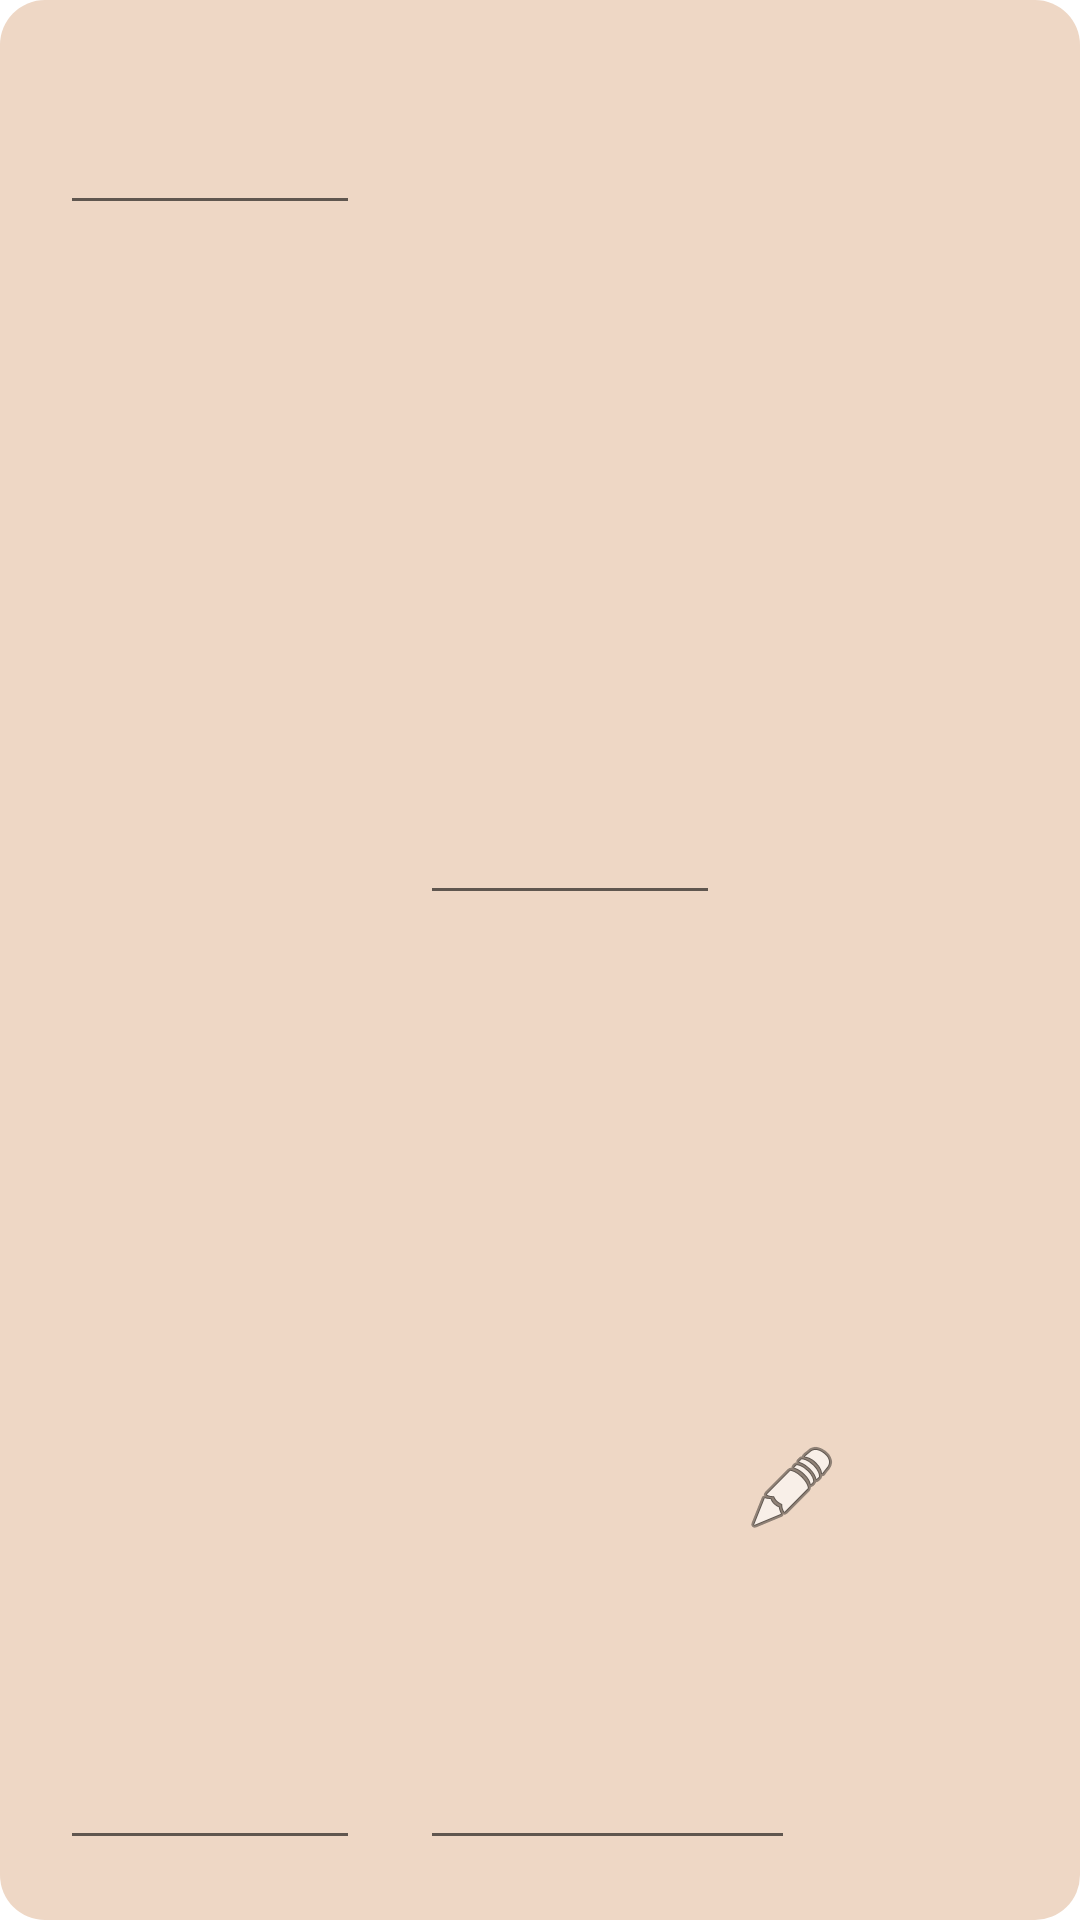

Named icons in this screenshot (1080*1920) and their centers, (x,y):
edit: (791,1487)
